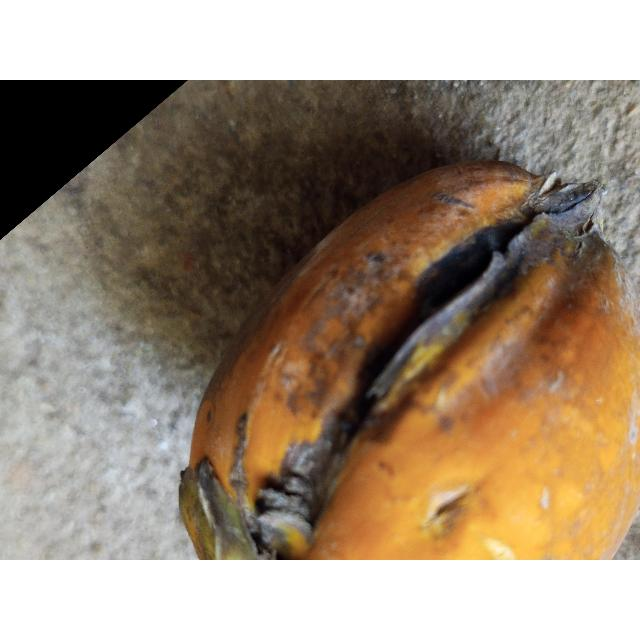damaged: (180, 161, 640, 560)
